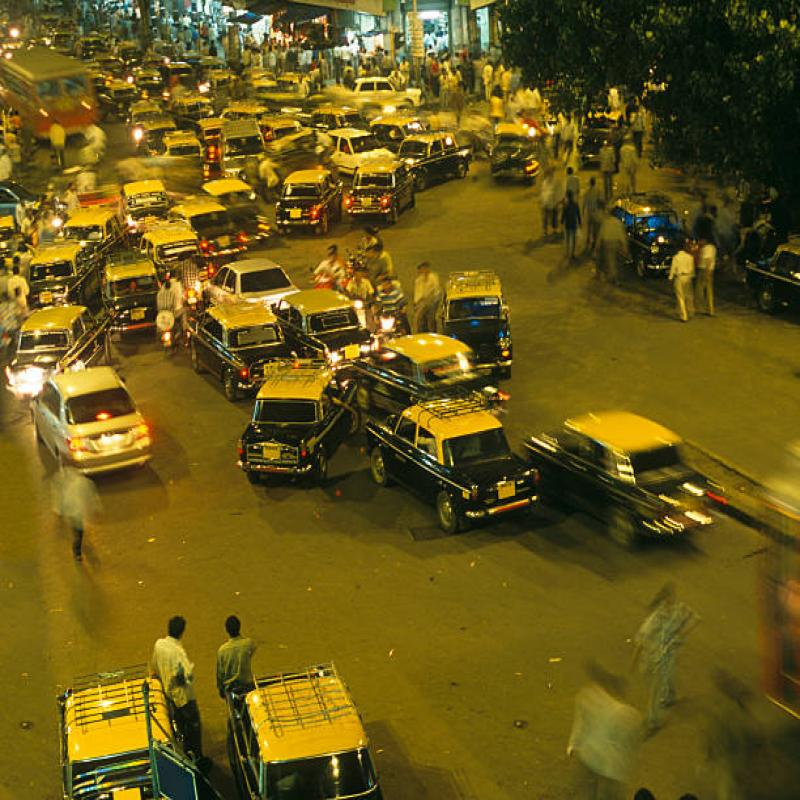car: (553, 414, 712, 556), (230, 667, 396, 800), (385, 390, 545, 524), (36, 364, 187, 486), (240, 365, 338, 493), (194, 298, 284, 389)
